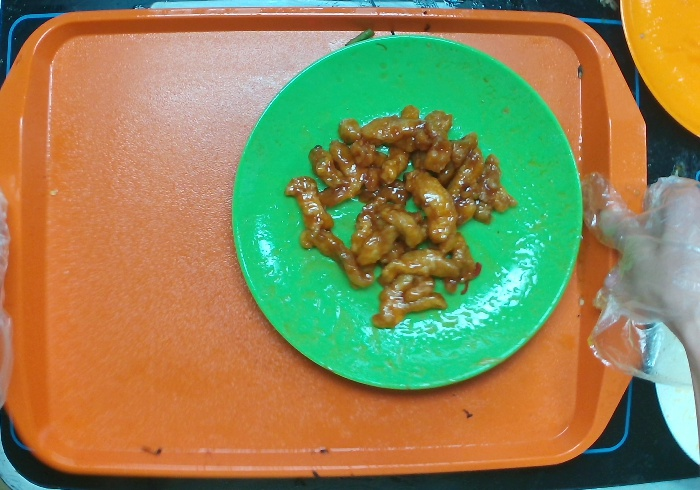HZYJPL-Lv_Se_Yuan_Pan: (222, 27, 595, 401)
